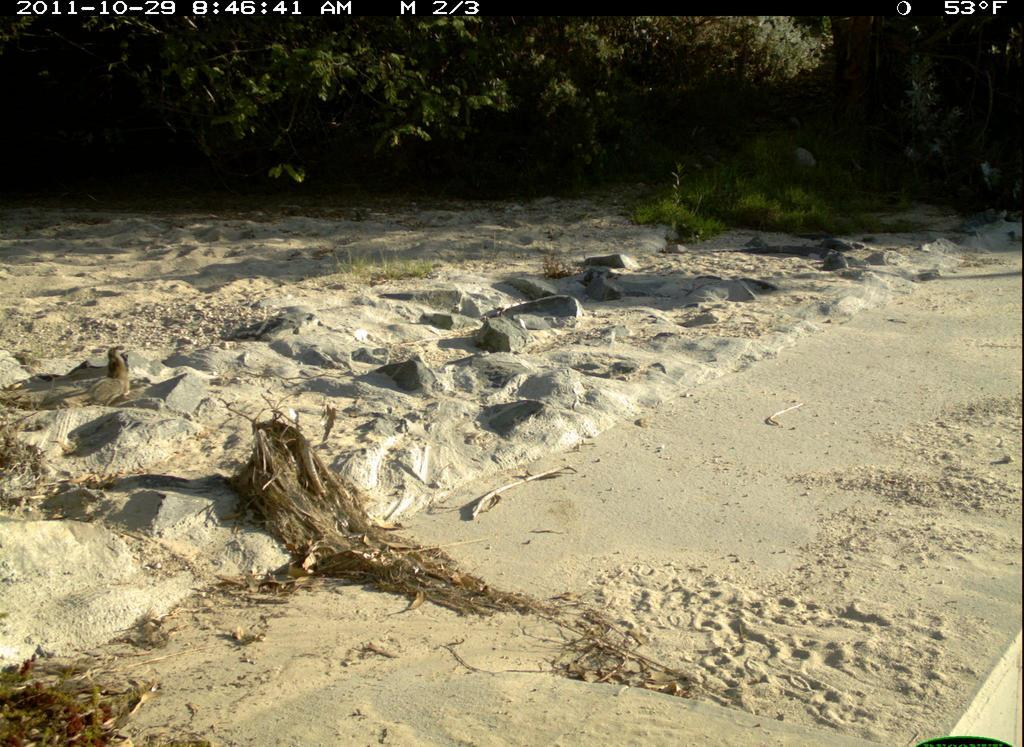squirrel: (77, 340, 131, 414)
